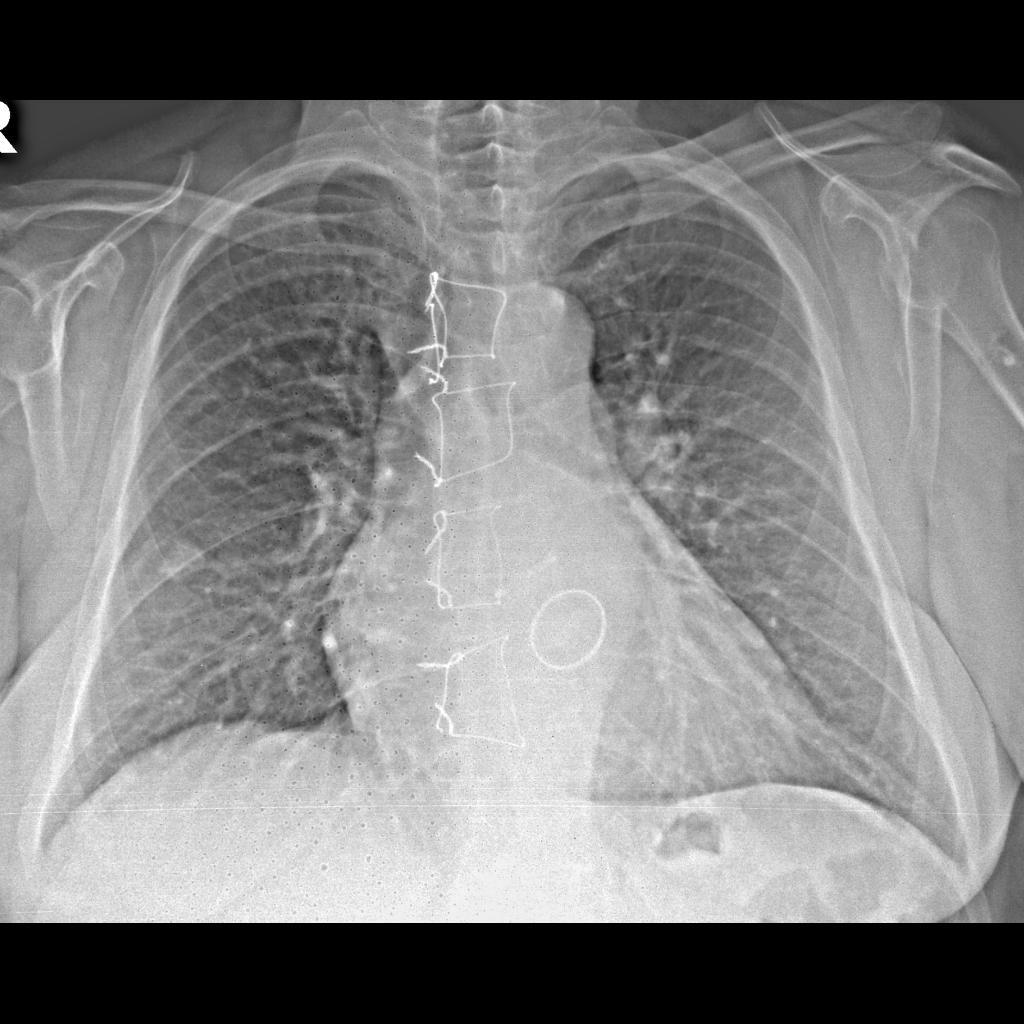Nodule: (156, 538, 218, 586)
